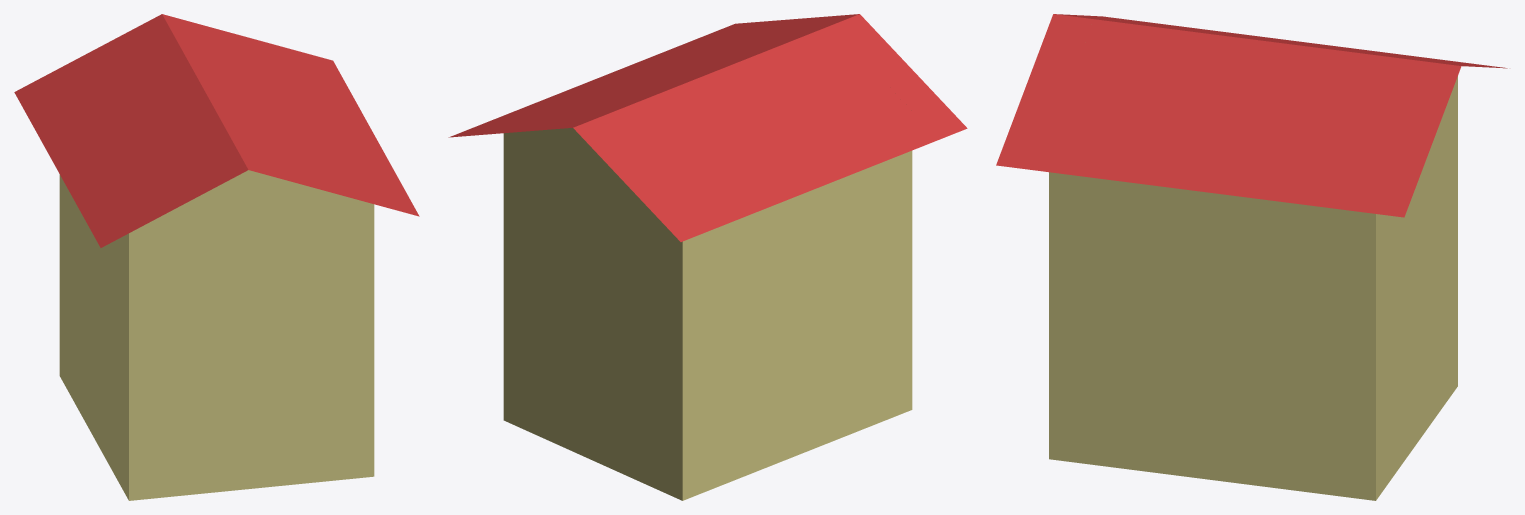
3 renders of one model, left to right at view 1: azimuth 30°, elevation 25°; view 2: azimuth 150°, elevation 25°; view 3: azimuth 270°, elevation 25°, orthographic. The views are drawn at different scales.
Visible parts, largest first — view 1: group_5, group_3, group_4; view 2: group_5, group_3, group_4; view 3: group_5, group_3, group_4.
Part boxes in pixels (x1,y1,x2,y2): group_5: [59, 170, 374, 500]; group_3: [14, 14, 419, 247]; group_4: [100, 14, 296, 247]; group_5: [503, 128, 912, 500]; group_3: [448, 14, 966, 241]; group_4: [574, 14, 967, 148]; group_5: [1049, 76, 1457, 500]; group_3: [996, 14, 1507, 217]; group_4: [1053, 14, 1451, 69].
Size of the model in its own units: 8.39 by 9.07 by 7.33.
